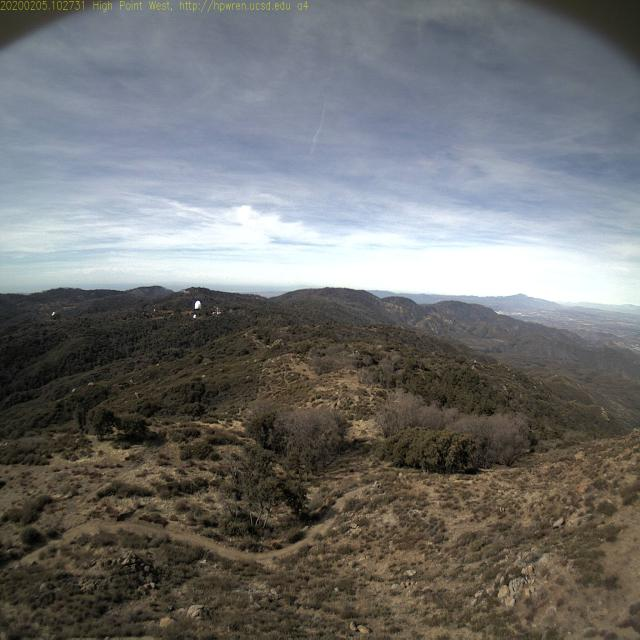smoke: (135, 285, 179, 300), (181, 287, 193, 295)
